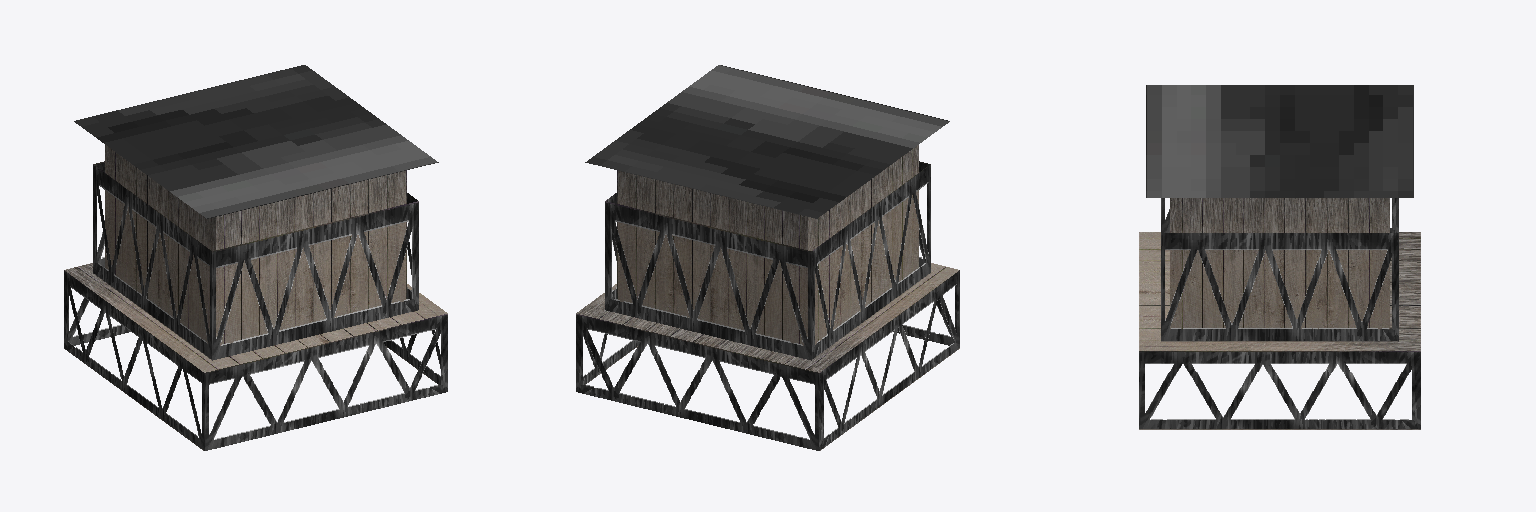
3 renders of one model, left to right at view 1: azimuth 30°, elevation 25°; view 2: azimuth 150°, elevation 25°; view 3: azimuth 270°, elevation 25°, orthographic.
Parts seen in each view (by area): view 1: waterTank_2; view 2: waterTank_2; view 3: waterTank_2.
Part boxes in pixels (x1,y1,x2,y2): waterTank_2: (64, 65, 447, 450); waterTank_2: (576, 65, 959, 450); waterTank_2: (1139, 85, 1420, 429).
Size of the model in its own units: 2.6 by 2.33 by 2.6.
Materials: 1 (1 with a texture image).